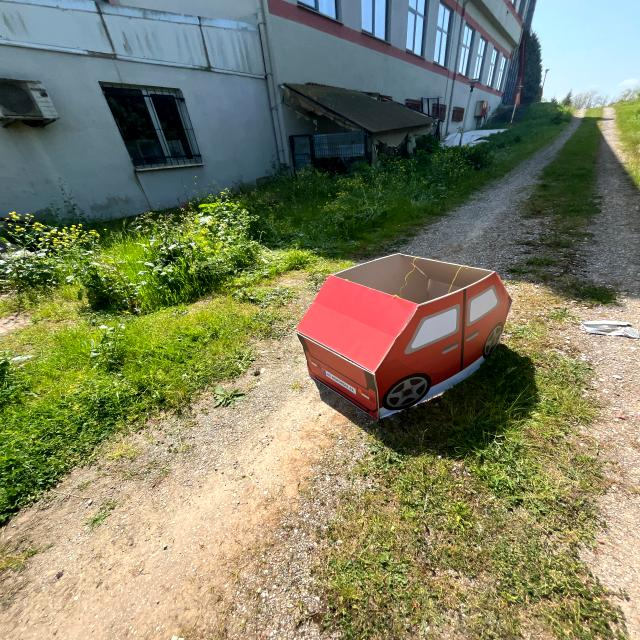red_car: (265, 245, 546, 430)
